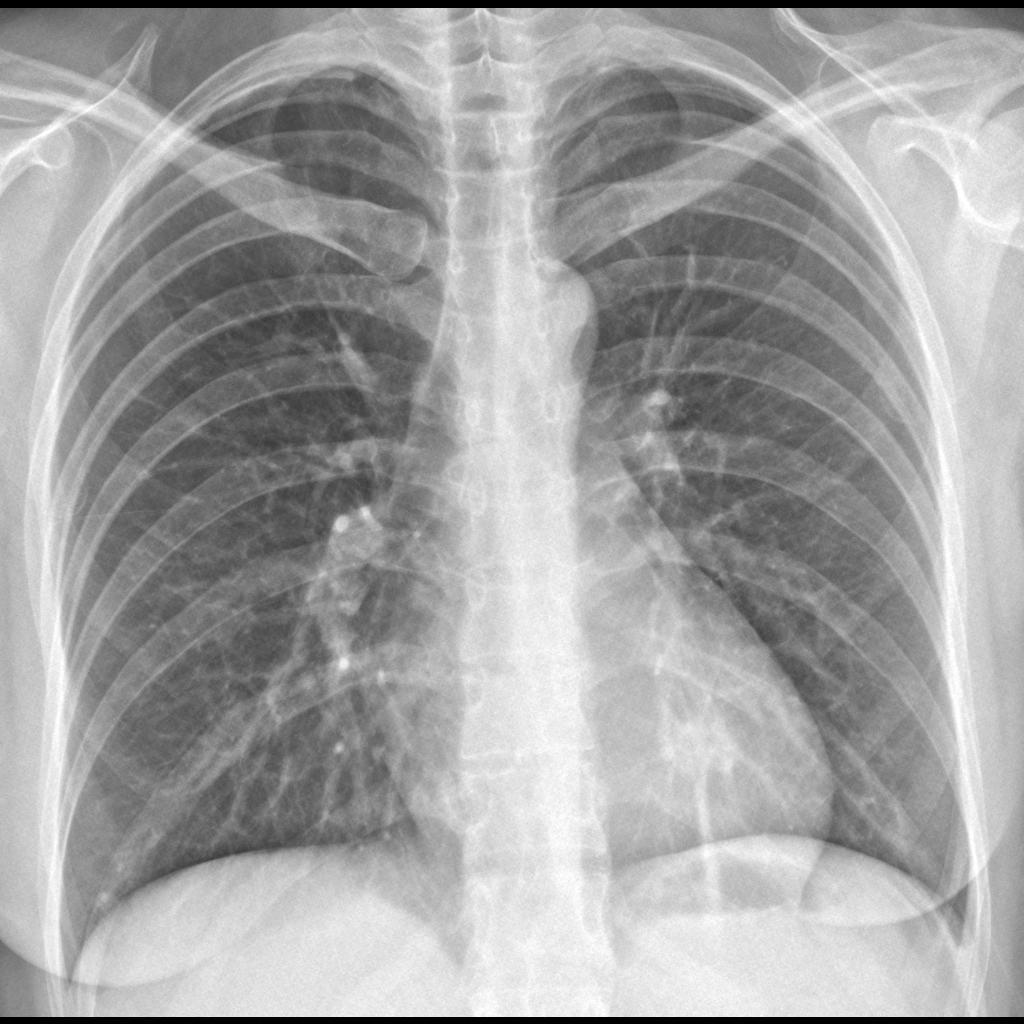Nodule: (650, 695, 744, 794)
